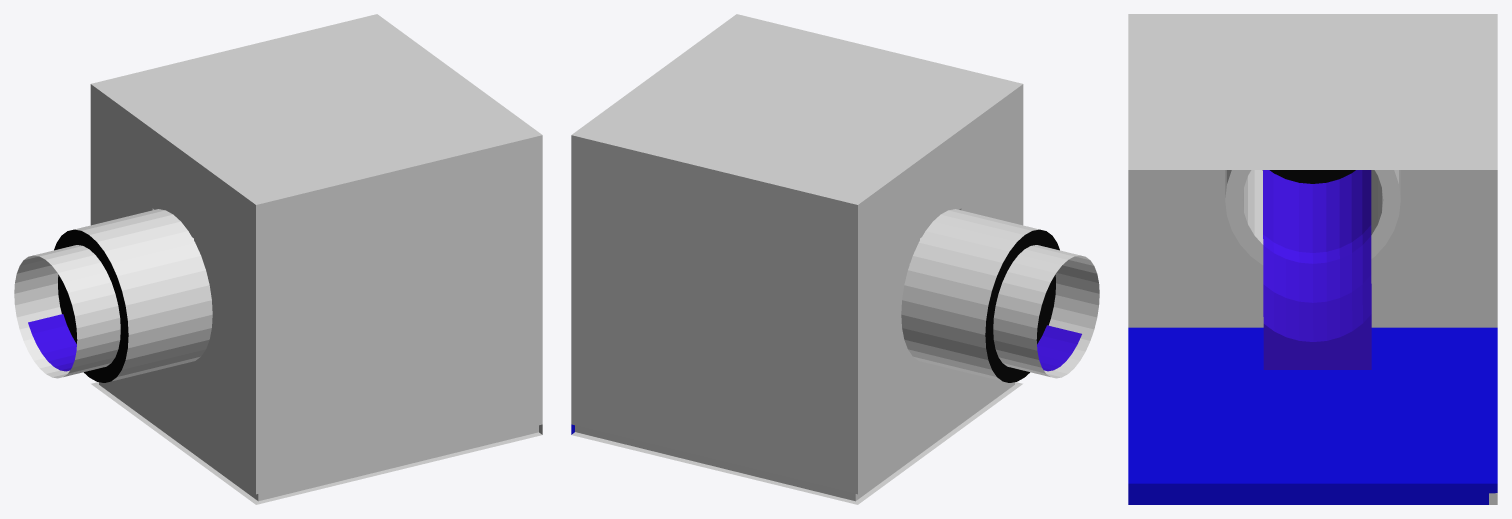
File: MiniB_Eau.fbx
3 views of the same model, side by side, from view 1: azimuth 30°, elevation 25°; view 2: azimuth 150°, elevation 25°; view 3: azimuth 270°, elevation 25° (orthographic). The views are drawn at different scales.
Visible parts, largest first — view 1: mini-B, Mini-B Stuff; view 2: mini-B, Mini-B Stuff; view 3: mini-B, Mini-B Stuff.
Part boxes in pixels (x1,y1,x2,y2): mini-B: (90,14,542,504); Mini-B Stuff: (14,209,212,382); mini-B: (571,14,1023,504); Mini-B Stuff: (901,209,1099,382); mini-B: (1128,14,1497,504); Mini-B Stuff: (1225,170,1400,369).
Size of the model in its own units: 4510 by 3400 by 3119.
